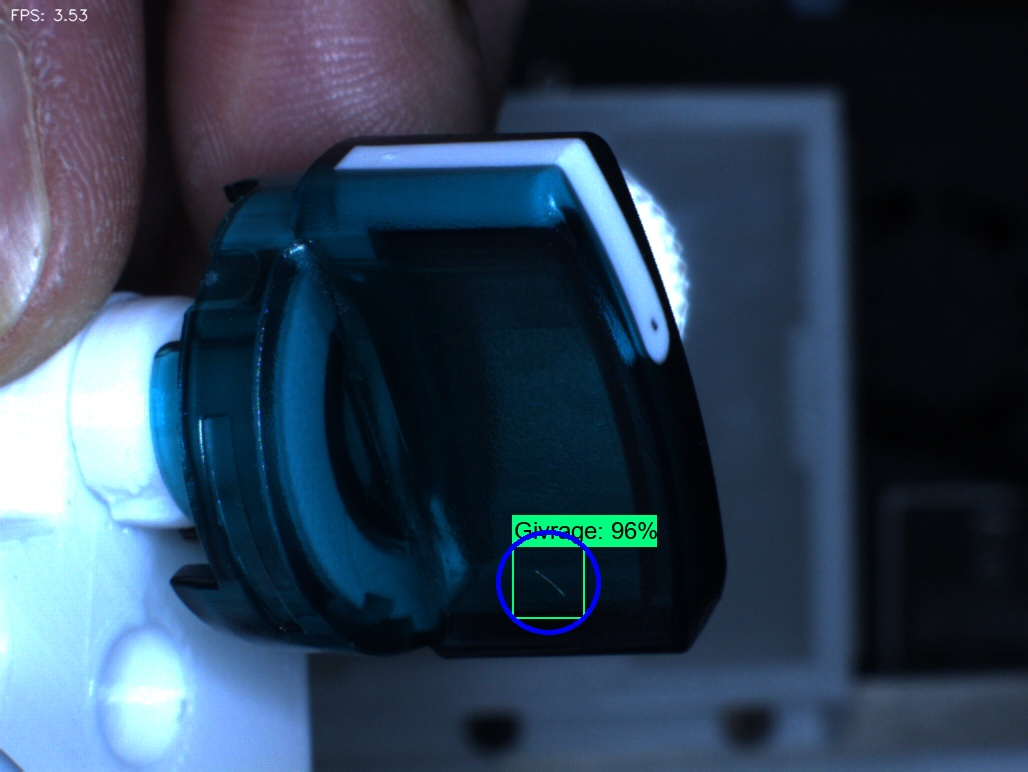PointNoir: (611, 274, 701, 368)
